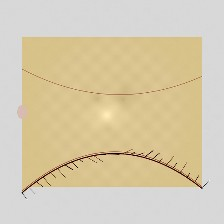corneal_ulcer: (71, 88, 136, 141)
